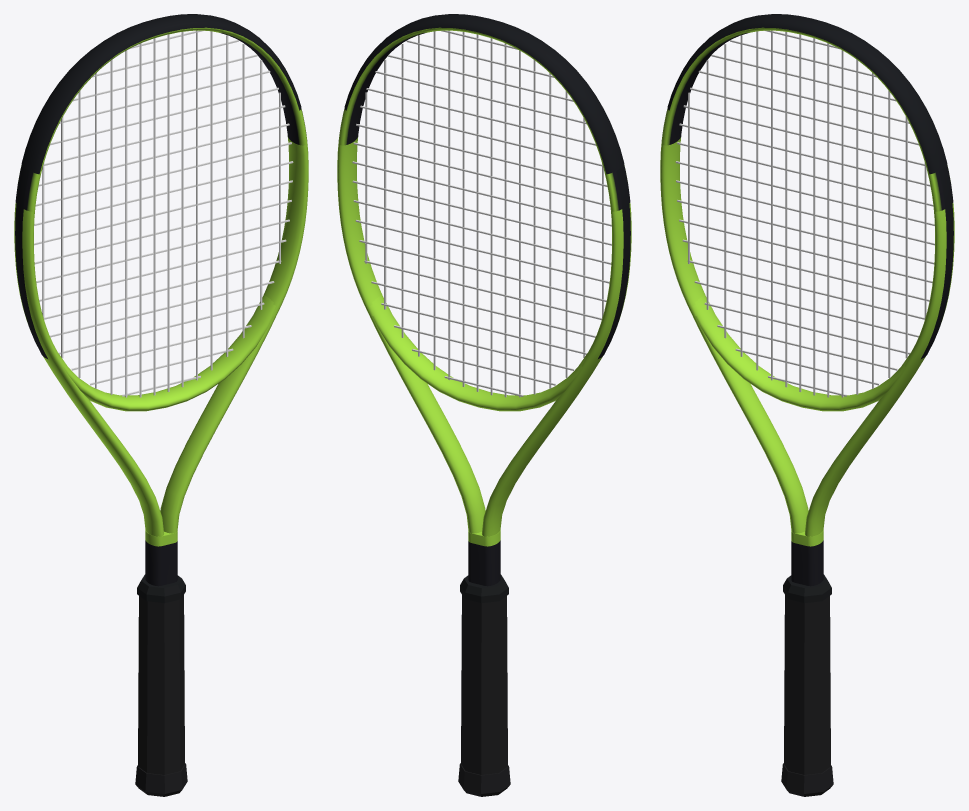
Rendered from head-extreme-mp-2026.glb.
The picture shows the model from 3 angles, left to right: view 1: azimuth 30°, elevation 25°; view 2: azimuth 150°, elevation 25°; view 3: azimuth 330°, elevation 25°; orthographic projection.
Parts seen in each view (by area): view 1: frame, strings_mains, strings_crosses, grip, bumper, grommets, butt_cap, collar; view 2: frame, strings_mains, strings_crosses, grip, bumper, grommets, butt_cap, collar; view 3: frame, strings_mains, strings_crosses, grip, bumper, grommets, butt_cap, collar.
Part boxes in pixels (<box>): frame: <box>14,27,308,586</box>; strings_mains: <box>42,30,280,397</box>; strings_crosses: <box>34,30,293,396</box>; grip: <box>138,595,184,774</box>; bumper: <box>21,14,301,174</box>; grommets: <box>15,166,47,358</box>; butt_cap: <box>135,763,187,796</box>; collar: <box>137,574,185,603</box>; frame: <box>337,27,631,586</box>; strings_mains: <box>365,30,603,397</box>; strings_crosses: <box>352,30,611,396</box>; grip: <box>461,595,507,774</box>; bumper: <box>344,14,624,174</box>; grommets: <box>598,166,630,358</box>; butt_cap: <box>458,763,510,796</box>; collar: <box>460,574,508,603</box>; frame: <box>660,27,954,586</box>; strings_mains: <box>688,30,926,397</box>; strings_crosses: <box>675,30,934,396</box>; grip: <box>784,595,830,774</box>; bumper: <box>667,14,947,174</box>; grommets: <box>921,166,953,358</box>; butt_cap: <box>781,763,833,796</box>; collar: <box>783,574,831,603</box>.
Bounding box in the file's own units: 0.2687 × 0.6861 × 0.0396.
